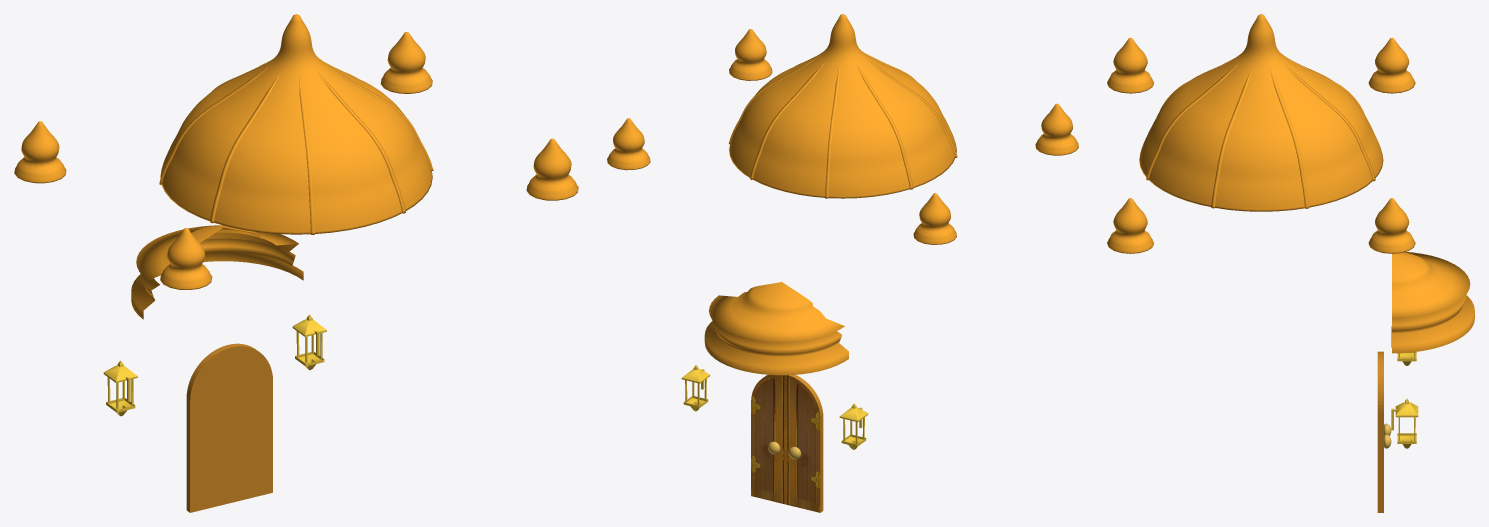
The model's file is HaloDomeHouse_08_deco.glb.
The picture shows the model from 3 angles, left to right: view 1: azimuth 30°, elevation 25°; view 2: azimuth 150°, elevation 25°; view 3: azimuth 270°, elevation 25°; orthographic projection. The views are drawn at different scales.
Parts seen in each view (by area): view 1: HaloDomeHouse_08_Dome, HaloDomeHouse_08_Leaf0, HaloDomeHouse_08_Leaf1, HaloDomeHouse_08_PorchDome, HaloDomeHouse_08_DomeRibs, HaloDomeHouse_08_Finial0, HaloDomeHouse_08_Finial3, HaloDomeHouse_08_Finial2, HaloDomeHouse_08_Finial1, HaloDomeHouse_08_Lantern1, HaloDomeHouse_08_Lantern0; view 2: HaloDomeHouse_08_Dome, HaloDomeHouse_08_PorchDome, HaloDomeHouse_08_Leaf0, HaloDomeHouse_08_Leaf1, HaloDomeHouse_08_DomeRibs, HaloDomeHouse_08_Finial1, HaloDomeHouse_08_Finial0, HaloDomeHouse_08_Finial2, HaloDomeHouse_08_Finial3, HaloDomeHouse_08_Lantern0, HaloDomeHouse_08_Lantern1; view 3: HaloDomeHouse_08_Dome, HaloDomeHouse_08_PorchDome, HaloDomeHouse_08_DomeRibs, HaloDomeHouse_08_Finial0, HaloDomeHouse_08_Finial2, HaloDomeHouse_08_Finial3, HaloDomeHouse_08_Finial1, HaloDomeHouse_08_Leaf1, HaloDomeHouse_08_Lantern1.
Part boxes in pixels (box(x1,y1,x2,y2)): HaloDomeHouse_08_Dome: box(160, 14, 432, 234); HaloDomeHouse_08_Leaf0: box(186, 345, 231, 512); HaloDomeHouse_08_Leaf1: box(228, 343, 272, 502); HaloDomeHouse_08_PorchDome: box(131, 225, 303, 319); HaloDomeHouse_08_DomeRibs: box(159, 60, 433, 234); HaloDomeHouse_08_Finial0: box(14, 121, 66, 183); HaloDomeHouse_08_Finial3: box(380, 31, 432, 93); HaloDomeHouse_08_Finial2: box(526, 138, 578, 200); HaloDomeHouse_08_Finial1: box(160, 228, 212, 289); HaloDomeHouse_08_Lantern1: box(292, 314, 326, 370); HaloDomeHouse_08_Lantern0: box(103, 360, 137, 416); HaloDomeHouse_08_Dome: box(729, 14, 956, 198); HaloDomeHouse_08_PorchDome: box(704, 282, 848, 375); HaloDomeHouse_08_Leaf0: box(785, 375, 823, 512); HaloDomeHouse_08_Leaf1: box(751, 374, 785, 504); HaloDomeHouse_08_DomeRibs: box(728, 53, 957, 198); HaloDomeHouse_08_Finial1: box(1035, 103, 1078, 155); HaloDomeHouse_08_Finial0: box(913, 193, 956, 244); HaloDomeHouse_08_Finial2: box(729, 29, 772, 80); HaloDomeHouse_08_Finial3: box(607, 118, 650, 170); HaloDomeHouse_08_Lantern0: box(839, 403, 868, 449); HaloDomeHouse_08_Lantern1: box(681, 365, 710, 411); HaloDomeHouse_08_Dome: box(1139, 14, 1383, 211); HaloDomeHouse_08_PorchDome: box(1392, 252, 1474, 353); HaloDomeHouse_08_DomeRibs: box(1146, 56, 1375, 208); HaloDomeHouse_08_Finial0: box(1368, 37, 1415, 93); HaloDomeHouse_08_Finial2: box(1107, 198, 1153, 253); HaloDomeHouse_08_Finial3: box(1368, 198, 1415, 253); HaloDomeHouse_08_Finial1: box(1107, 37, 1153, 93); HaloDomeHouse_08_Leaf1: box(1377, 355, 1383, 512); HaloDomeHouse_08_Lantern1: box(1391, 399, 1418, 448).
Bounding box in the file's own units: 21.35 × 26.58 × 18.43.
Materials: 6 (1 with a texture image).
